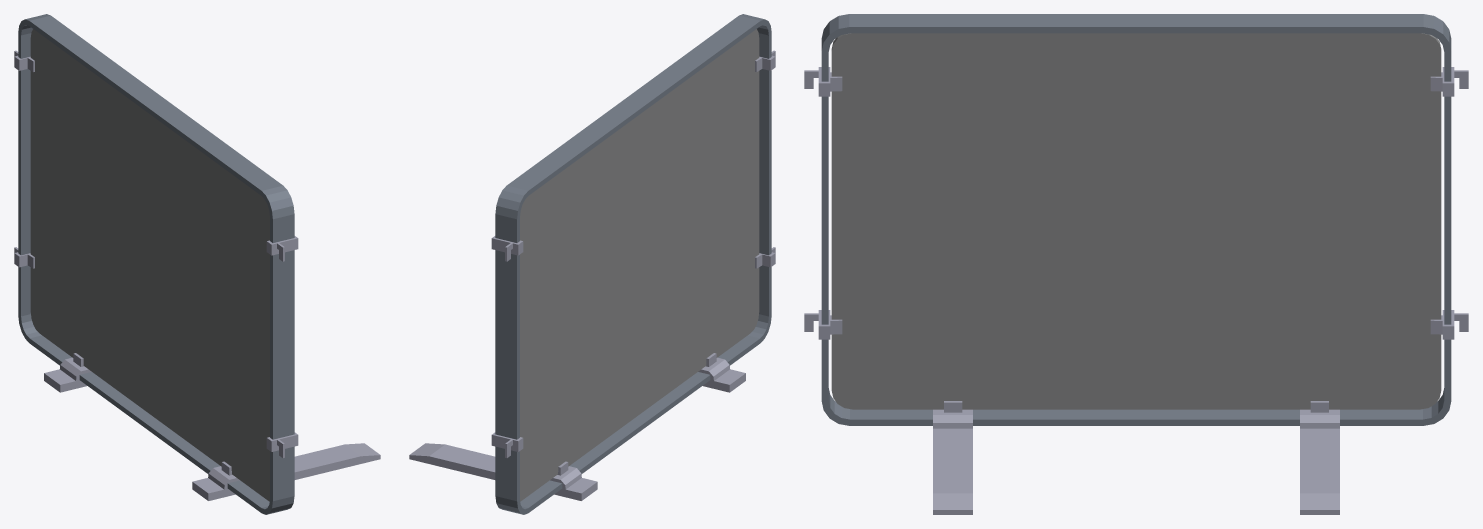
The picture shows the model from 3 angles, left to right: view 1: azimuth 30°, elevation 25°; view 2: azimuth 150°, elevation 25°; view 3: azimuth 270°, elevation 25°; orthographic projection. The views are drawn at different scales.
Parts seen in each view (by area): view 1: Cube.002; view 2: Cube.002; view 3: Cube.002.
Boxes of the visible parts, x1,y1,x2,y2 form: Cube.002: [14, 14, 380, 514]; Cube.002: [409, 14, 775, 514]; Cube.002: [804, 14, 1468, 514].
Bounding box in the file's own units: 0.5605 × 1.03 × 1.51.
